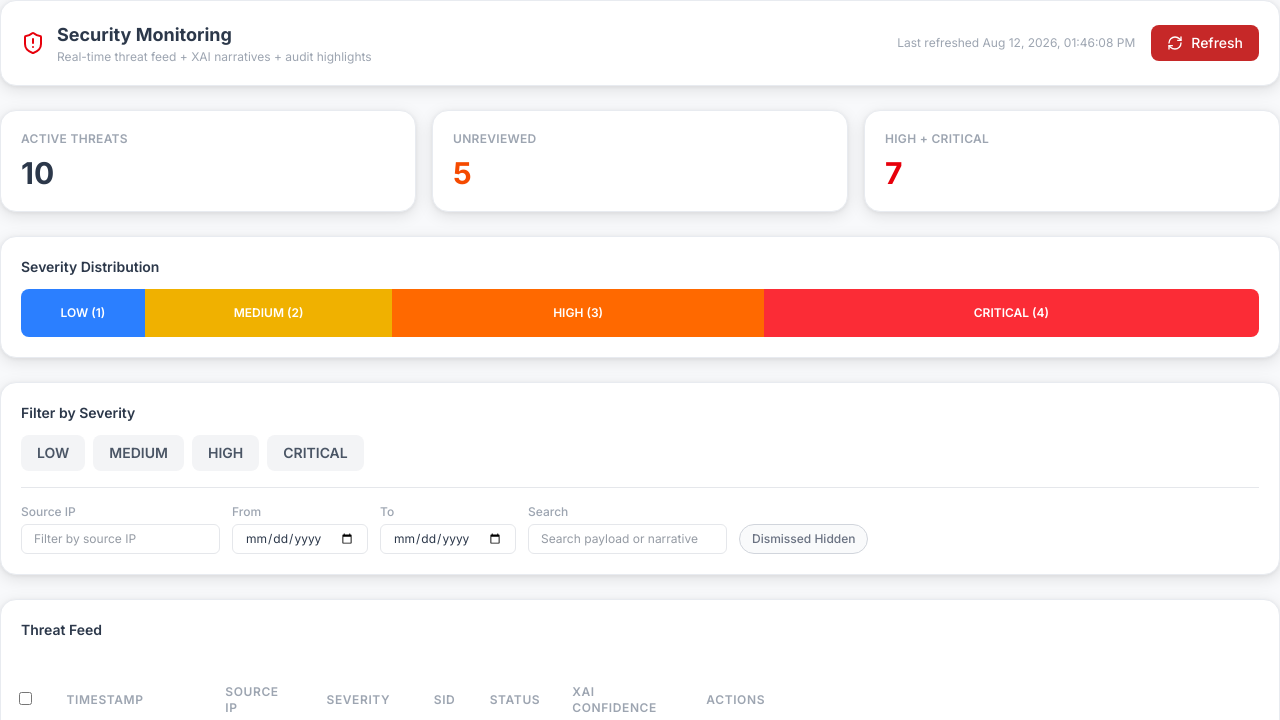
Test: M8: Security Monitoring page — bulk actions + S3 (Task 12) › reports partial failure accurately without silently dropping the successful groups
Click the checkbox. click: click(25, 698)
box: [18,692,32,705]
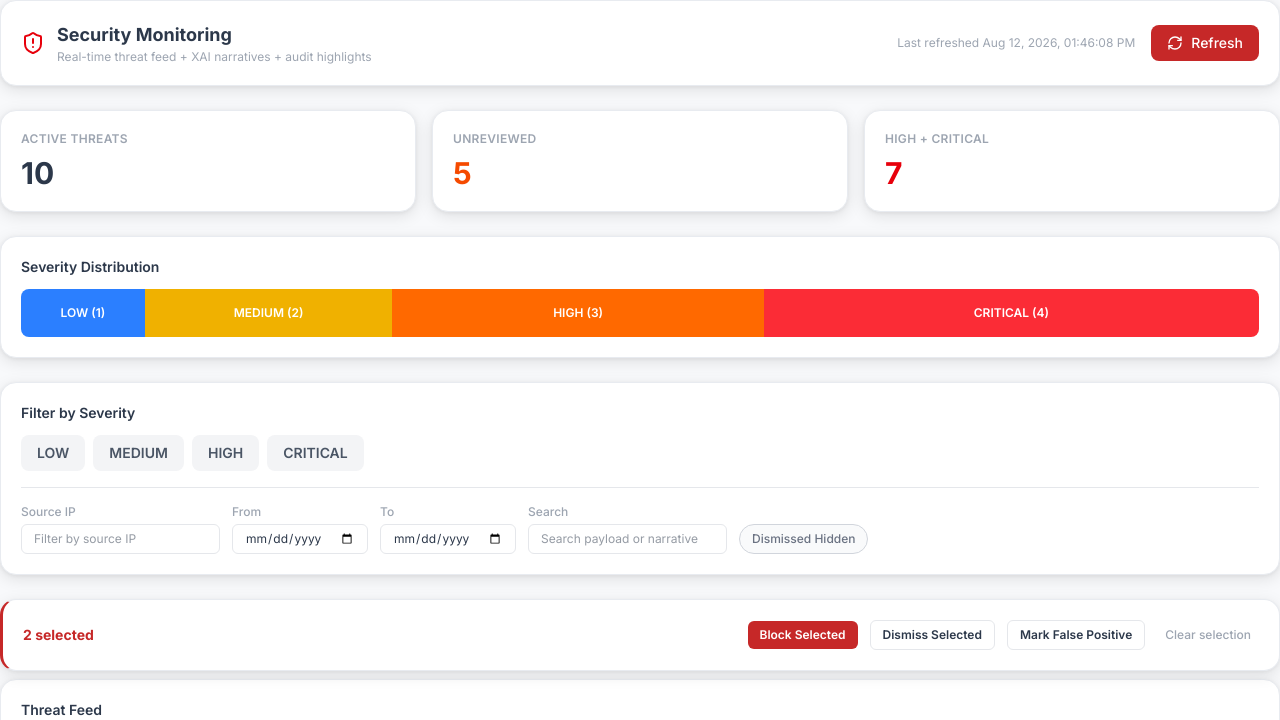
Click the button "Block Selected". click: click(802, 635)
box: [748,621,858,649]
(page scrolled)
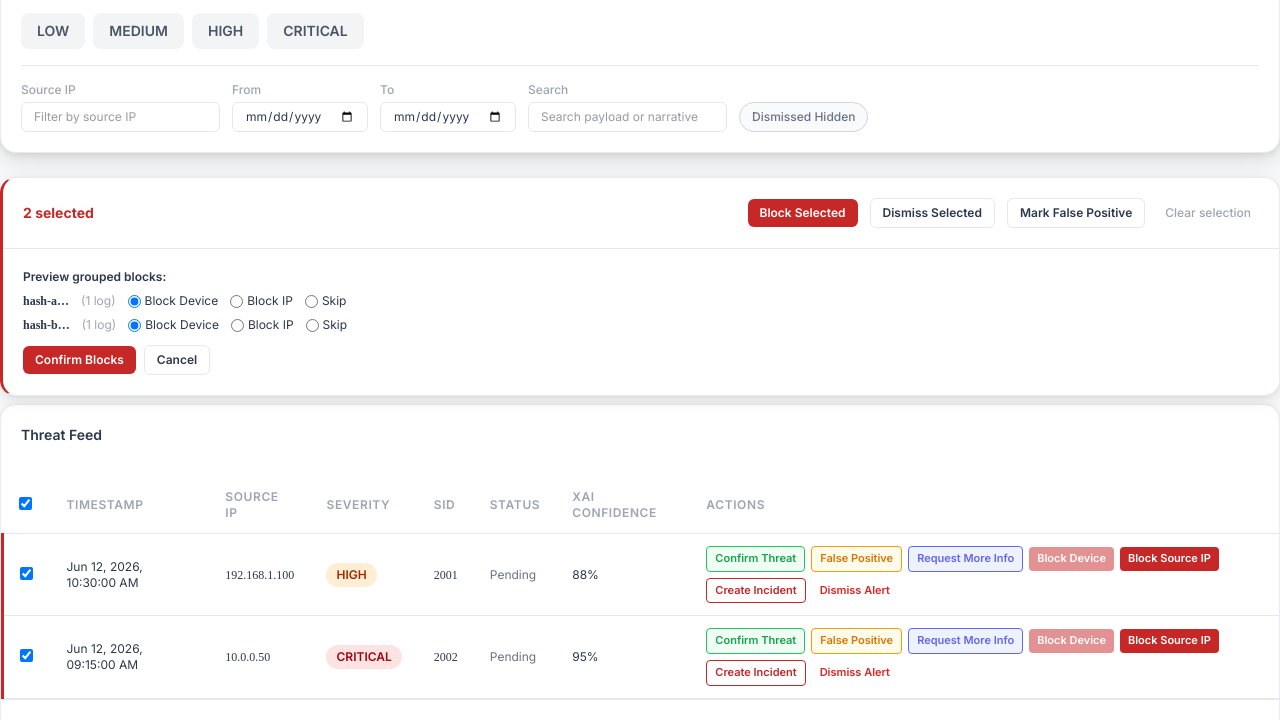
Check: the element with test id "bulk-block-preview-panel" is shown, box [3,248,1279,395]
Click the button "Confirm Blocks". click: click(79, 360)
box: [23,346,136,374]
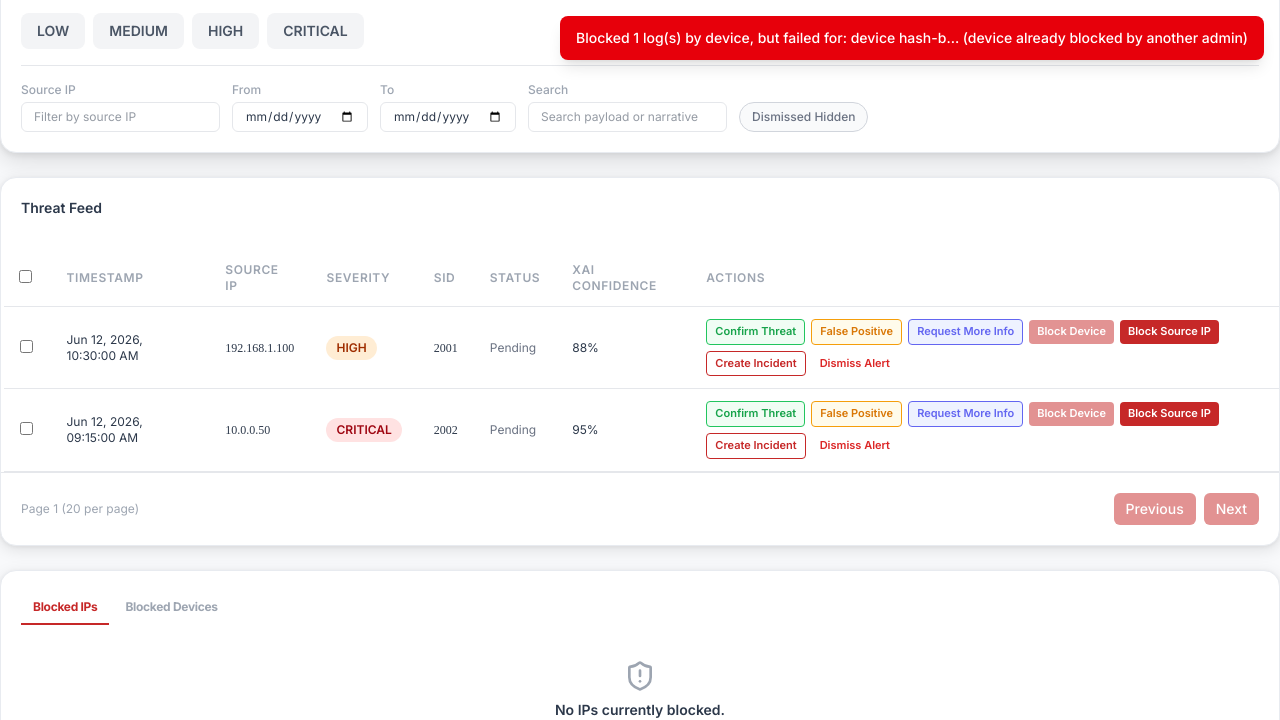
Check: the text "hash-b" is shown, box [576,29,1248,46]
